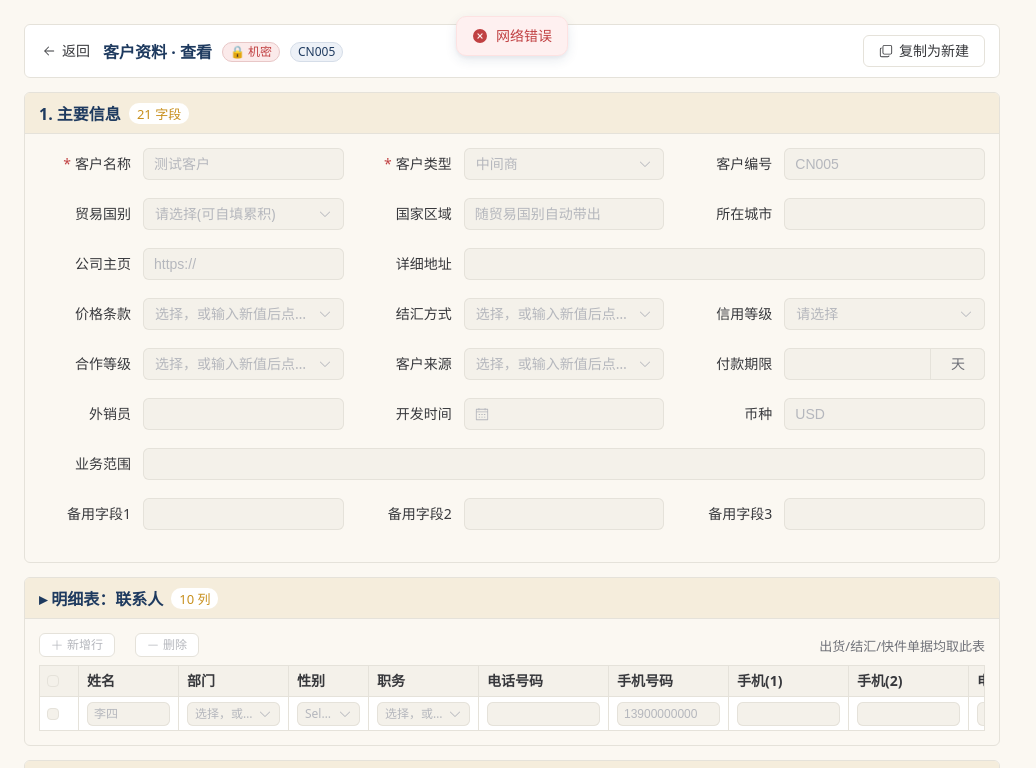
Test case: CustomerEditView › 查看页点「复制为新建」跳转 /new?copy_from= 且清空编号显示
The image size is (1036, 768).
Click the button "复制为新建" at (924, 51), box [863,35,985,67]
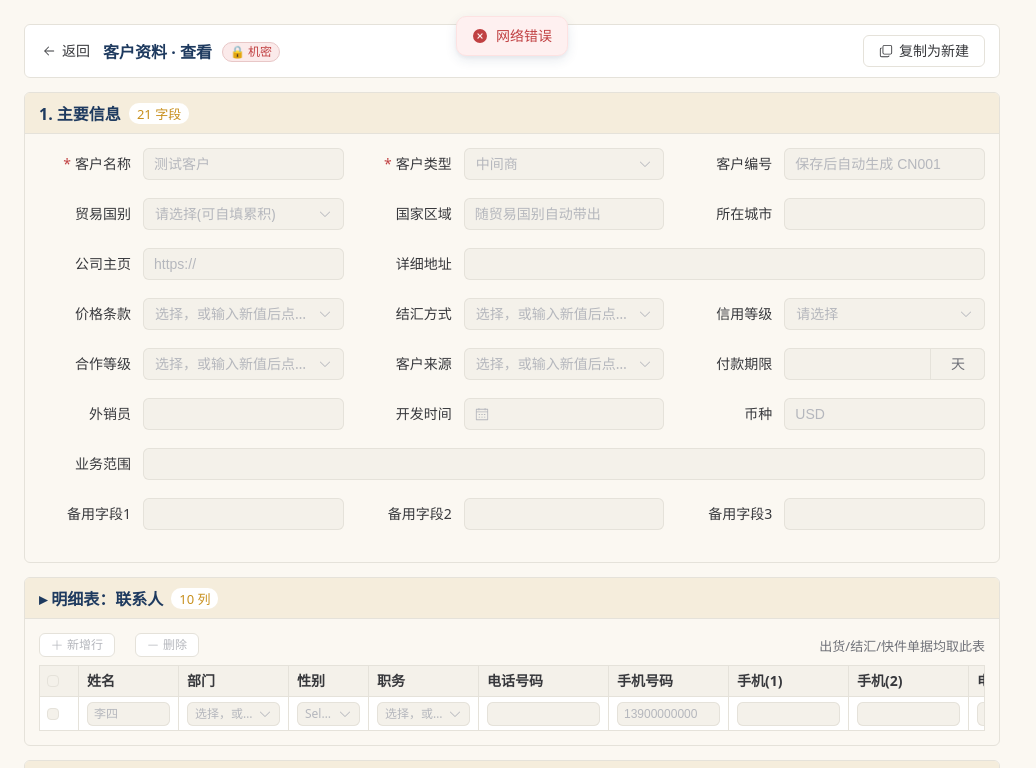
expect the text "CN005" is gone: met
